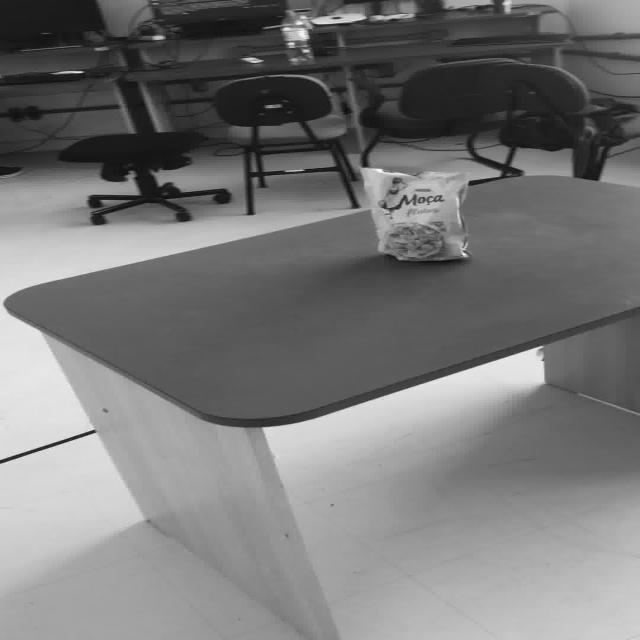corn flakes: (358, 166, 470, 261), (386, 221, 444, 258)
